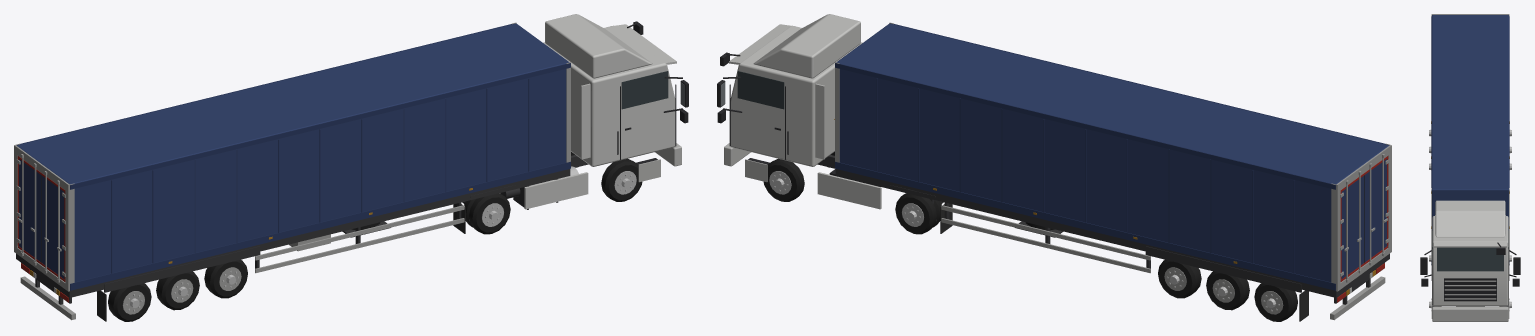
The model's file is SM_Prop_services_lorry_2.glb.
3 views of the same model, side by side, from view 1: azimuth 30°, elevation 25°; view 2: azimuth 150°, elevation 25°; view 3: azimuth 270°, elevation 25° (orthographic). The views are drawn at different scales.
Parts seen in each view (by area): view 1: SM_Prop_services_lorry_2; view 2: SM_Prop_services_lorry_2; view 3: SM_Prop_services_lorry_2.
Boxes of the visible parts, <box> form: SM_Prop_services_lorry_2: <box>14,14,688,321</box>; SM_Prop_services_lorry_2: <box>717,14,1391,321</box>; SM_Prop_services_lorry_2: <box>1420,14,1520,321</box>.
Size of the model in its own units: 16.9 by 4 by 3.3.
